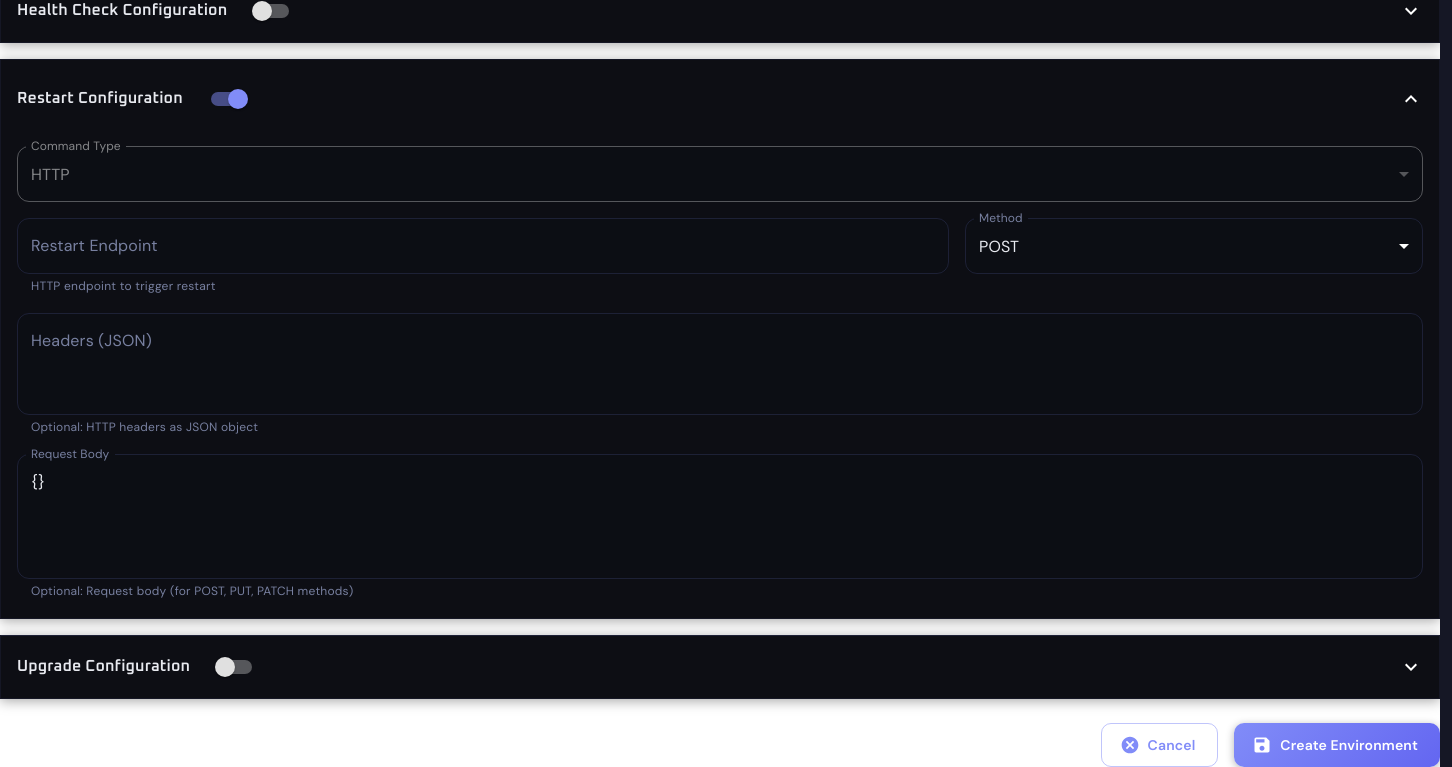
Test: EnvironmentForm › should show JSONPath field when upgrade is enabled
This screenshot has width=1452, height=767.
(page scrolled)
Click the 3rd checkbox.
click(225, 667)  # box [215,657,235,677]
(page scrolled)
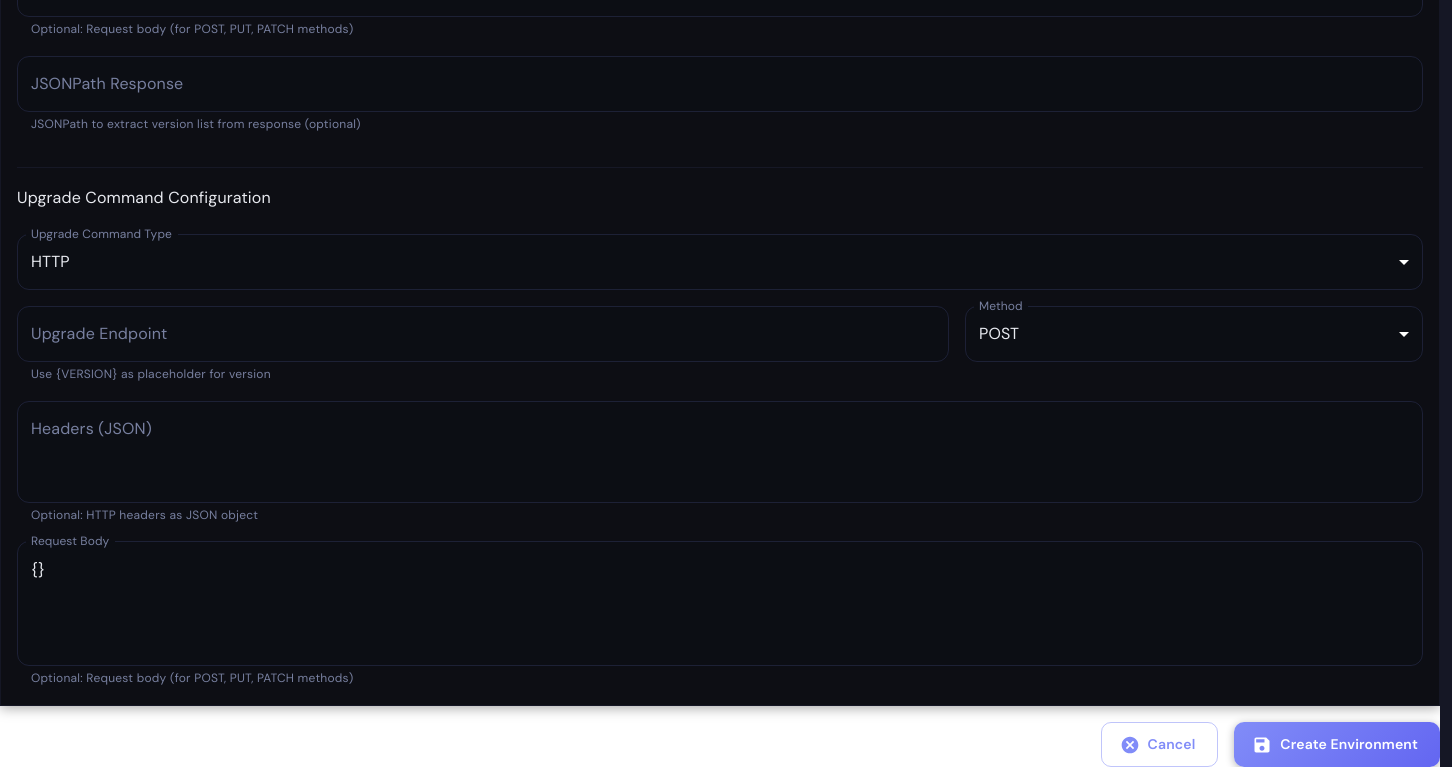
Expected: the field labelled "JSONPath Response" is shown, [17,56,1423,112]
